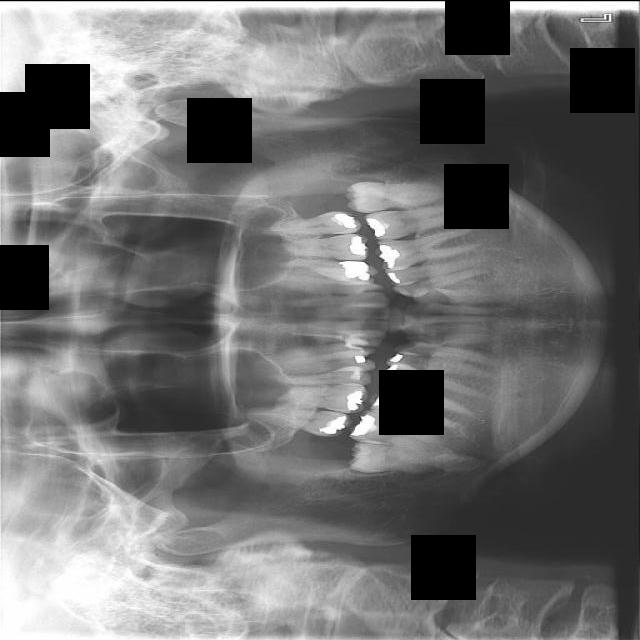52: (364, 370, 418, 426), (347, 400, 399, 453), (372, 226, 425, 276), (363, 201, 414, 246), (320, 380, 367, 413), (323, 231, 371, 262), (303, 408, 353, 437), (380, 357, 421, 390), (317, 208, 363, 235), (333, 347, 376, 372), (321, 259, 369, 280), (384, 348, 426, 372), (330, 364, 372, 385), (342, 328, 387, 346), (341, 263, 377, 285), (385, 265, 422, 285)
73: (287, 326, 351, 342), (586, 40, 592, 48)
BioHorizons Implant: (258, 209, 362, 238)
Biomet 3i Implant: (346, 180, 444, 212)
Blue Sky Bio Implant: (365, 203, 459, 242)
Caries: (247, 401, 353, 438)
Implant: (348, 405, 448, 453)
Keystone Dental Implant: (349, 437, 444, 479)
